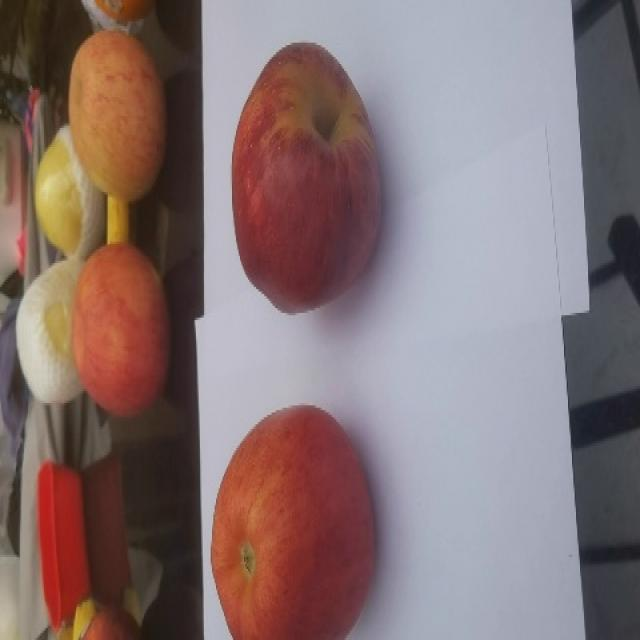Apple: (229, 42, 389, 322), (209, 407, 379, 640), (68, 25, 174, 206), (68, 244, 172, 415)
